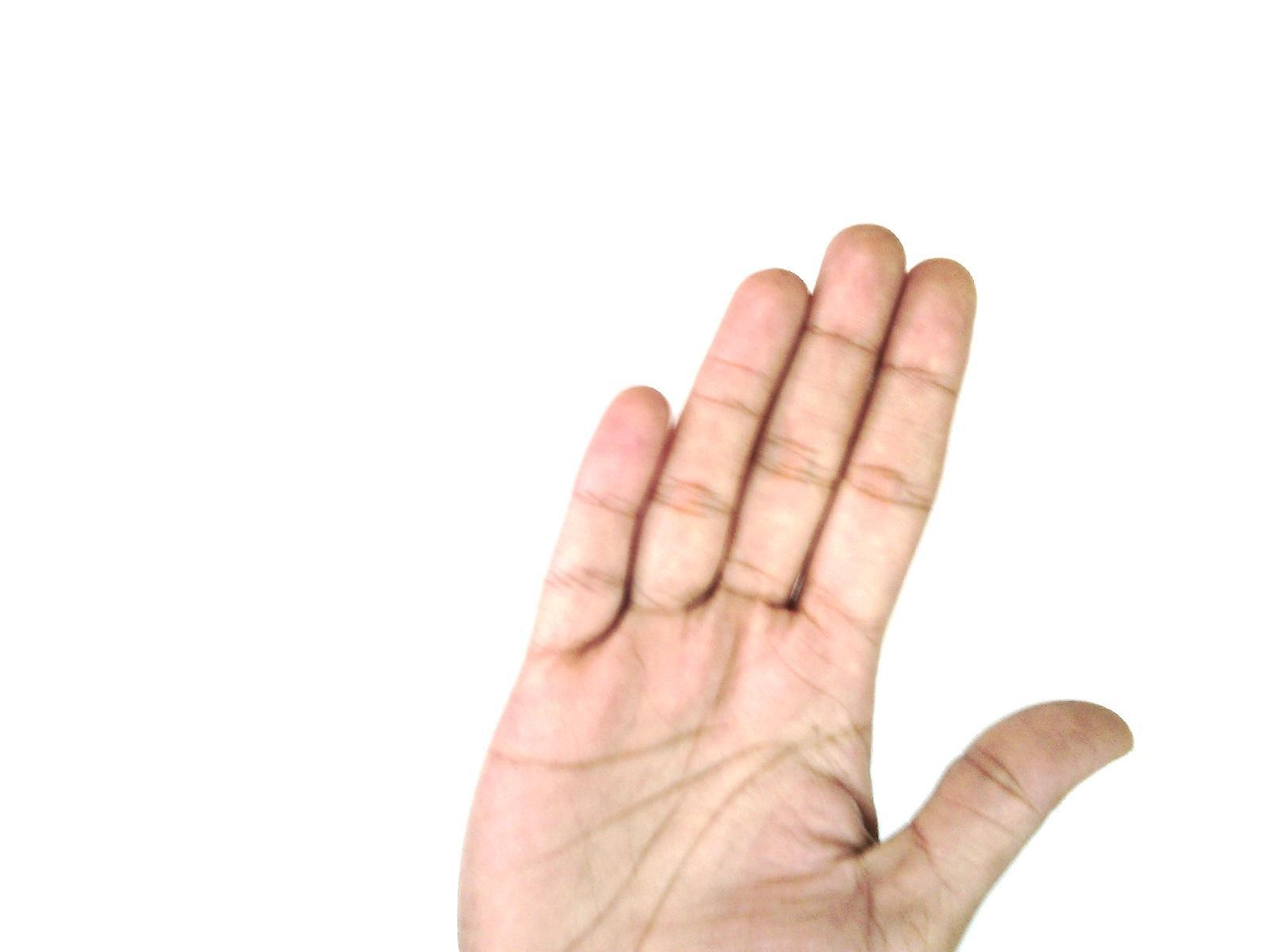open_palm: (453, 222, 1137, 952)
